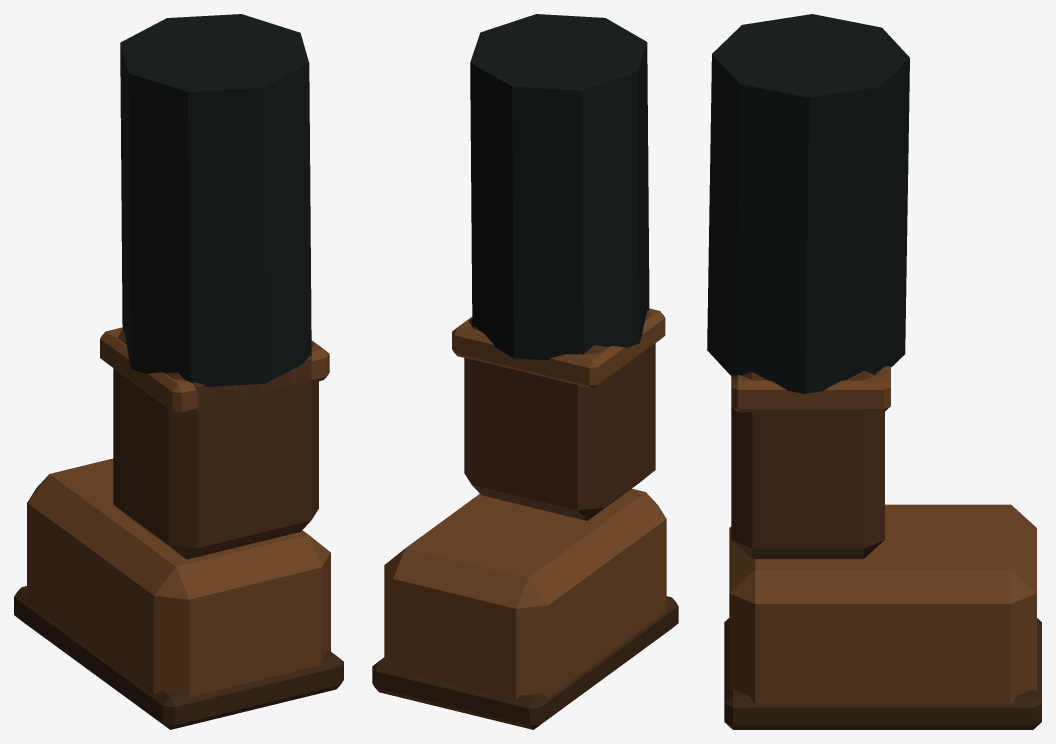
File: LegRight.glb
The picture shows the model from 3 angles, left to right: view 1: azimuth 30°, elevation 25°; view 2: azimuth 150°, elevation 25°; view 3: azimuth 270°, elevation 25°; orthographic projection. The views are drawn at different scales.
Parts seen in each view (by area): view 1: Sculpture; view 2: Sculpture; view 3: Sculpture.
Boxes of the visible parts, x1=… form: Sculpture: x1=14, y1=14, x2=343, y2=729; Sculpture: x1=372, y1=14, x2=678, y2=729; Sculpture: x1=707, y1=14, x2=1041, y2=729.
Size of the model in its own units: 0.219 by 0.728 by 0.348.
